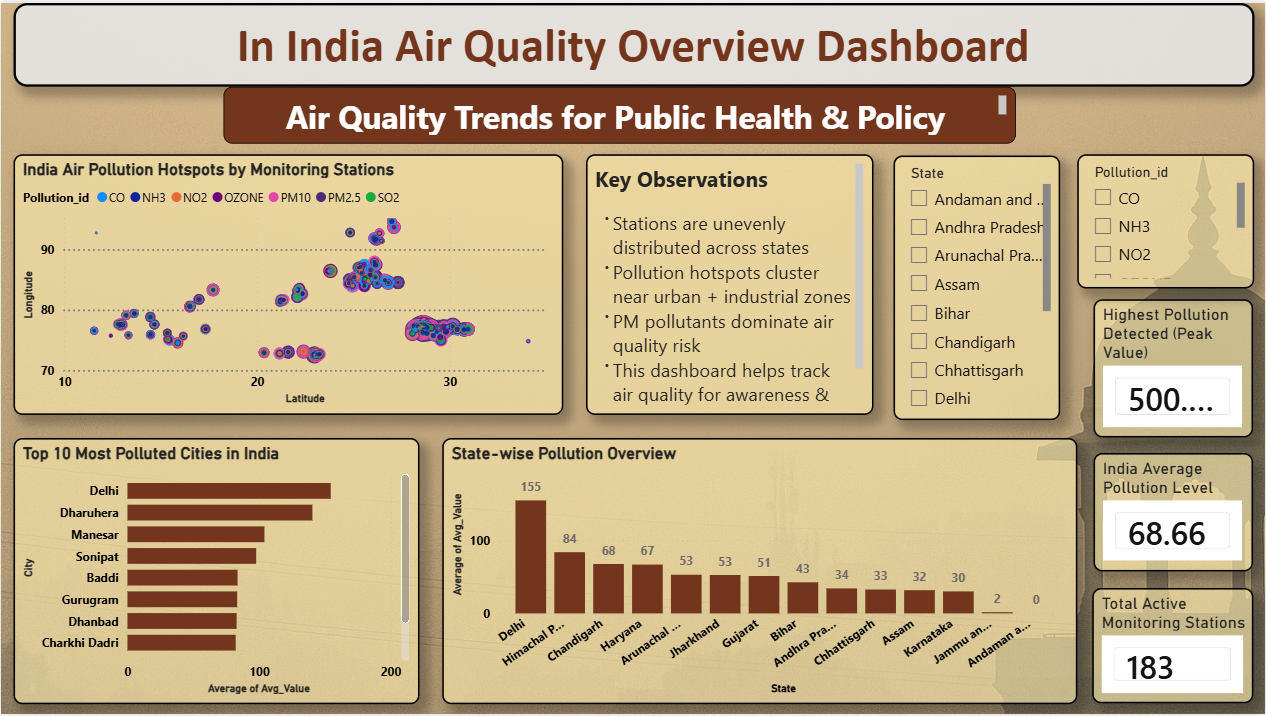

The dashboard page shown, as its layout file describes it:
{"tool":"powerbi","page":{"name":"Page 1","canvas":[1280,720],"ordinal":0},"visuals":[{"type":"textbox","box":[0,0,1279.6,68.5],"z":0},{"type":"textbox","box":[0,85.2,1279.6,53.7],"z":1000},{"type":"scatterChart","title":"India Air Pollution Hotspots by Monitoring Stations","fields":{"Series":["3b01bcb8-0b14-4abf-b6f2-c1bfd384ba69.Pollution_id"],"Size":["Avg(3b01bcb8-0b14-4abf-b6f2-c1bfd384ba69.Avg_Value)"],"X":["3b01bcb8-0b14-4abf-b6f2-c1bfd384ba69.Latitude"],"Y":["3b01bcb8-0b14-4abf-b6f2-c1bfd384ba69.Longitude"]},"box":[0,138.9,1279.6,172.2],"z":2000},{"type":"cardVisual","title":"Total Active Monitoring Stations","fields":{"Data":["Count(3b01bcb8-0b14-4abf-b6f2-c1bfd384ba69.Station)"]},"box":[0,311.5,349.9,118],"z":3000},{"type":"cardVisual","title":"Highest Pollution Detected (Peak Value)","fields":{"Data":["Max(3b01bcb8-0b14-4abf-b6f2-c1bfd384ba69.Avg_Value)"]},"box":[349.9,311.5,423.8,118],"z":4000},{"type":"cardVisual","title":"India Average Pollution Level","fields":{"Data":["Avg(3b01bcb8-0b14-4abf-b6f2-c1bfd384ba69.Avg_Value)"]},"box":[773.7,311.5,506.3,118],"z":5000},{"type":"clusteredBarChart","title":"Top 10 Most Polluted Cities in India","fields":{"Category":["3b01bcb8-0b14-4abf-b6f2-c1bfd384ba69.City"],"Y":["Avg(3b01bcb8-0b14-4abf-b6f2-c1bfd384ba69.Avg_Value)"]},"box":[1.9,429.6,518.5,161.1],"z":6000},{"type":"clusteredColumnChart","title":"State-wise Pollution Overview","fields":{"Category":["3b01bcb8-0b14-4abf-b6f2-c1bfd384ba69.State"],"Y":["Avg(3b01bcb8-0b14-4abf-b6f2-c1bfd384ba69.Avg_Value)"]},"box":[535.2,429.6,744.4,161.1],"z":7000},{"type":"slicer","fields":{"Values":["3b01bcb8-0b14-4abf-b6f2-c1bfd384ba69.State"]},"box":[0,590.7,298.1,129.6],"z":8000},{"type":"slicer","fields":{"Values":["3b01bcb8-0b14-4abf-b6f2-c1bfd384ba69.Pollution_id"]},"box":[320.4,590.7,200,129.6],"z":9000},{"type":"textbox","box":[535.2,590.7,744.4,129.6],"z":10000}]}

Visuals, with their boxes in screenshot pixels (x1, y1, x2, y2), scaled from the page's 1280x720 canvas onto the 1266x716 screenshot:
textbox: left=0, top=0, right=1265, bottom=68
textbox: left=0, top=85, right=1265, bottom=138
"India Air Pollution Hotspots by Monitoring Stations" scatterChart: left=0, top=138, right=1265, bottom=309
"Total Active Monitoring Stations" cardVisual: left=0, top=310, right=346, bottom=427
"Highest Pollution Detected (Peak Value)" cardVisual: left=346, top=310, right=765, bottom=427
"India Average Pollution Level" cardVisual: left=765, top=310, right=1265, bottom=427
"Top 10 Most Polluted Cities in India" clusteredBarChart: left=2, top=427, right=515, bottom=587
"State-wise Pollution Overview" clusteredColumnChart: left=529, top=427, right=1265, bottom=587
slicer - 3b01bcb8-0b14-4abf-b6f2-c1bfd384ba69.State: left=0, top=587, right=295, bottom=715
slicer - 3b01bcb8-0b14-4abf-b6f2-c1bfd384ba69.Pollution_id: left=317, top=587, right=515, bottom=715
textbox: left=529, top=587, right=1265, bottom=715
